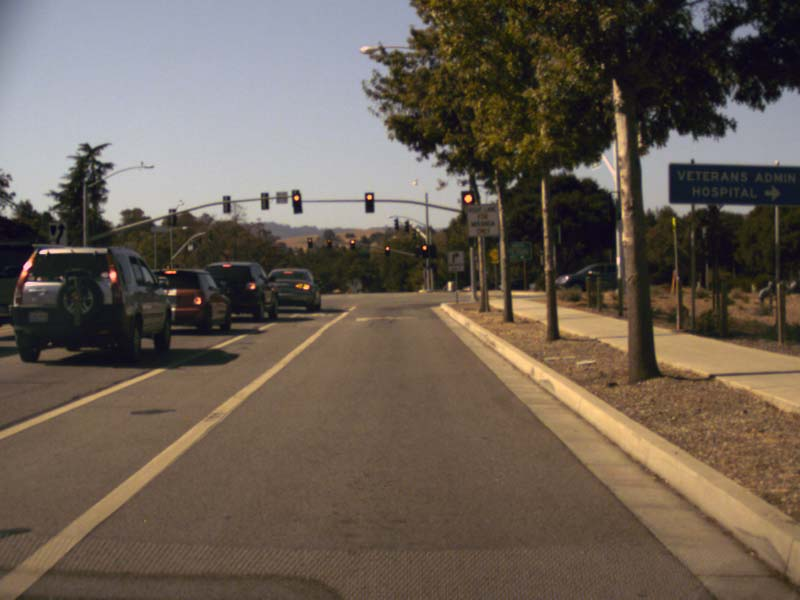Red: (291, 190, 302, 213), (461, 190, 474, 207), (364, 192, 373, 213), (421, 244, 427, 258), (349, 238, 355, 250), (384, 245, 390, 256), (326, 238, 332, 249), (307, 237, 311, 248)
